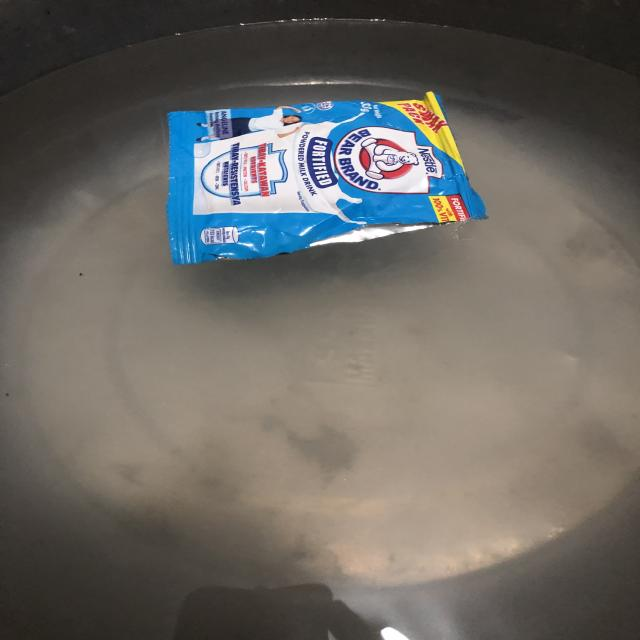Plastic Wrapper: (167, 92, 486, 264)
